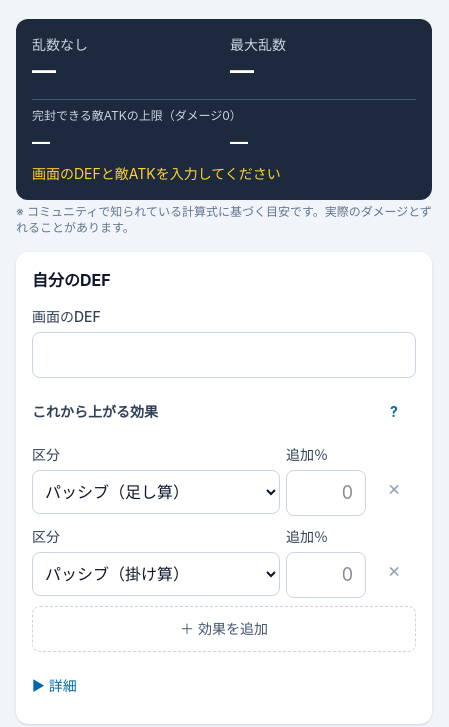
Test: App（詳細: 反映済み％） › 「詳細」を開くと5区分の入力欄が出る
Step 1. Click the button "▶ 詳細" → (54, 686), box [28,664,81,708]
(page scrolled)
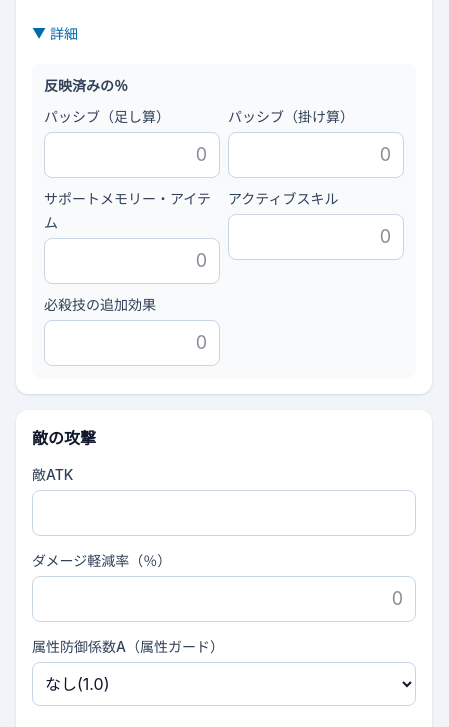
Check: the button "▼ 詳細" is expanded, box [28,12,82,56]
Check: the field labelled "パッシブ（足し算）" is shown, box [44,132,220,178]
Check: the field labelled "パッシブ（掛け算）" is shown, box [228,132,404,178]
